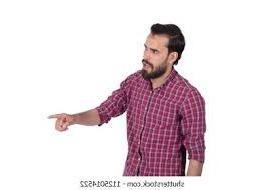Human: (62, 9, 216, 176)
